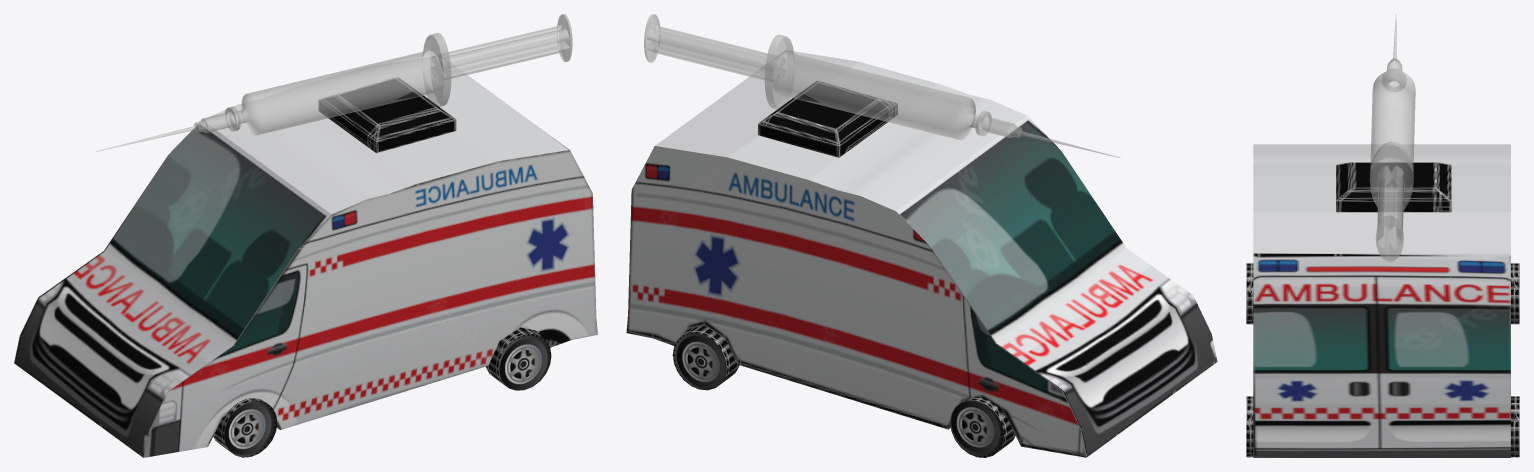
The model's file is ambulance3.fbx.
3 renders of one model, left to right at view 1: azimuth 30°, elevation 25°; view 2: azimuth 150°, elevation 25°; view 3: azimuth 270°, elevation 25°, orthographic.
Visible parts, largest first — view 1: pCube4, pasted__group1_pasted__pCylinder5, pCylinder4, pCylinder7; view 2: pCube4, pasted__group1_pasted__pCylinder5, pCylinder5, pCylinder6; view 3: pCube4, pasted__group1_pasted__pCylinder5, pCylinder5, pCylinder6, pCylinder4, pCylinder7.
Part boxes in pixels (x1,y1,x2,y2): pCube4: [14, 56, 597, 457]; pasted__group1_pasted__pCylinder5: [96, 14, 572, 151]; pCylinder4: [486, 327, 551, 390]; pCylinder7: [213, 398, 277, 457]; pCube4: [626, 50, 1217, 457]; pasted__group1_pasted__pCylinder5: [644, 14, 1120, 157]; pCylinder5: [672, 325, 739, 390]; pCylinder6: [950, 397, 1015, 457]; pCube4: [1253, 144, 1510, 457]; pasted__group1_pasted__pCylinder5: [1369, 14, 1415, 261]; pCylinder5: [1511, 396, 1519, 457]; pCylinder6: [1511, 263, 1519, 324]; pCylinder4: [1246, 396, 1253, 457]; pCylinder7: [1246, 263, 1253, 324].
Bounding box in the file's own units: 2.19 × 1.3 × 1.06.
4 materials, 2 textured.
